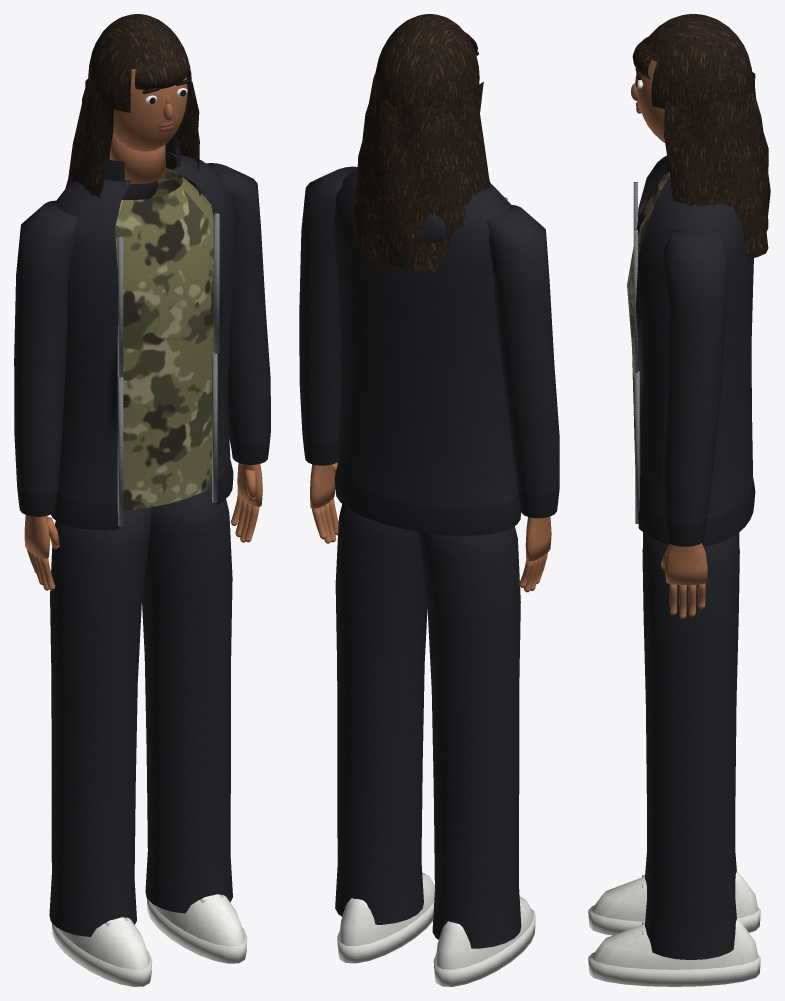
The model's file is npc_jordan.glb.
3 views of the same model, side by side, from view 1: azimuth 30°, elevation 25°; view 2: azimuth 150°, elevation 25°; view 3: azimuth 270°, elevation 25° (orthographic).
Visible parts, largest first — view 1: Top_A, Leg_R_A, Leg_L_A, Arm_R_A, Arm_L_A, Hair_A, Head_A, Shoe_L_A, Shoe_R_A; view 2: Top_A, Leg_R_A, Leg_L_A, Hair_A, Arm_R_A, Arm_L_A, Shoe_R_A, Shoe_L_A; view 3: Leg_L_A, Top_A, Hair_A, Arm_L_A, Shoe_L_A, Shoe_R_A, Head_A.
Part boxes in pixels (left/top/right/bottom): Top_A: left=51, top=135, right=235, bottom=530; Leg_R_A: left=49, top=507, right=151, bottom=937; Leg_L_A: left=142, top=487, right=232, bottom=913; Arm_R_A: left=14, top=200, right=78, bottom=590; Arm_L_A: left=202, top=163, right=270, bottom=542; Hair_A: left=65, top=14, right=201, bottom=197; Head_A: left=110, top=69, right=191, bottom=184; Shoe_L_A: left=146, top=894, right=247, bottom=963; Shoe_R_A: left=51, top=917, right=152, bottom=986; Top_A: left=333, top=168, right=520, bottom=535; Leg_R_A: left=418, top=526, right=521, bottom=948; Leg_L_A: left=335, top=504, right=427, bottom=924; Hair_A: left=353, top=14, right=490, bottom=272; Arm_R_A: left=487, top=204, right=559, bottom=592; Arm_L_A: left=299, top=166, right=357, bottom=543; Shoe_R_A: left=433, top=896, right=535, bottom=986; Shoe_L_A: left=337, top=873, right=434, bottom=963; Leg_L_A: left=642, top=534, right=739, bottom=959; Top_A: left=627, top=155, right=761, bottom=546; Hair_A: left=632, top=14, right=770, bottom=259; Arm_L_A: left=661, top=229, right=727, bottom=618; Shoe_L_A: left=588, top=918, right=760, bottom=986; Shoe_R_A: left=588, top=871, right=760, bottom=935; Head_A: left=631, top=60, right=669, bottom=176.
Size of the model in its own units: 0.4565 by 1.6 by 0.2843.
14 materials, 9 textured.
